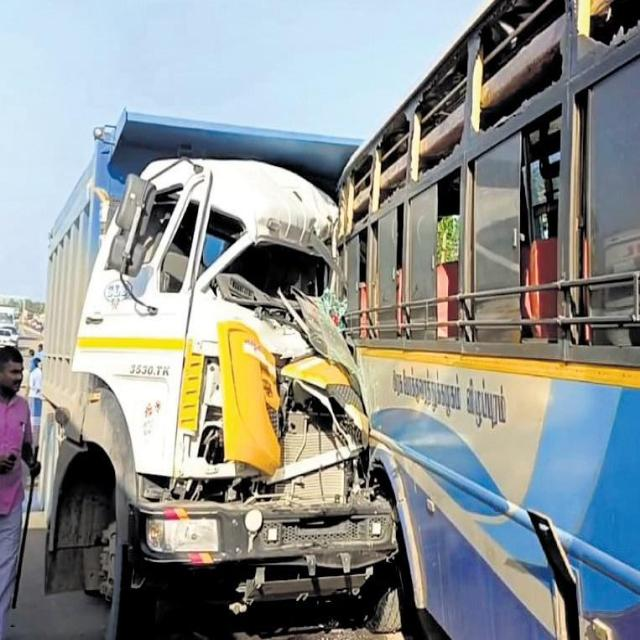accident: (42, 113, 396, 634)
bus: (338, 0, 640, 638)
